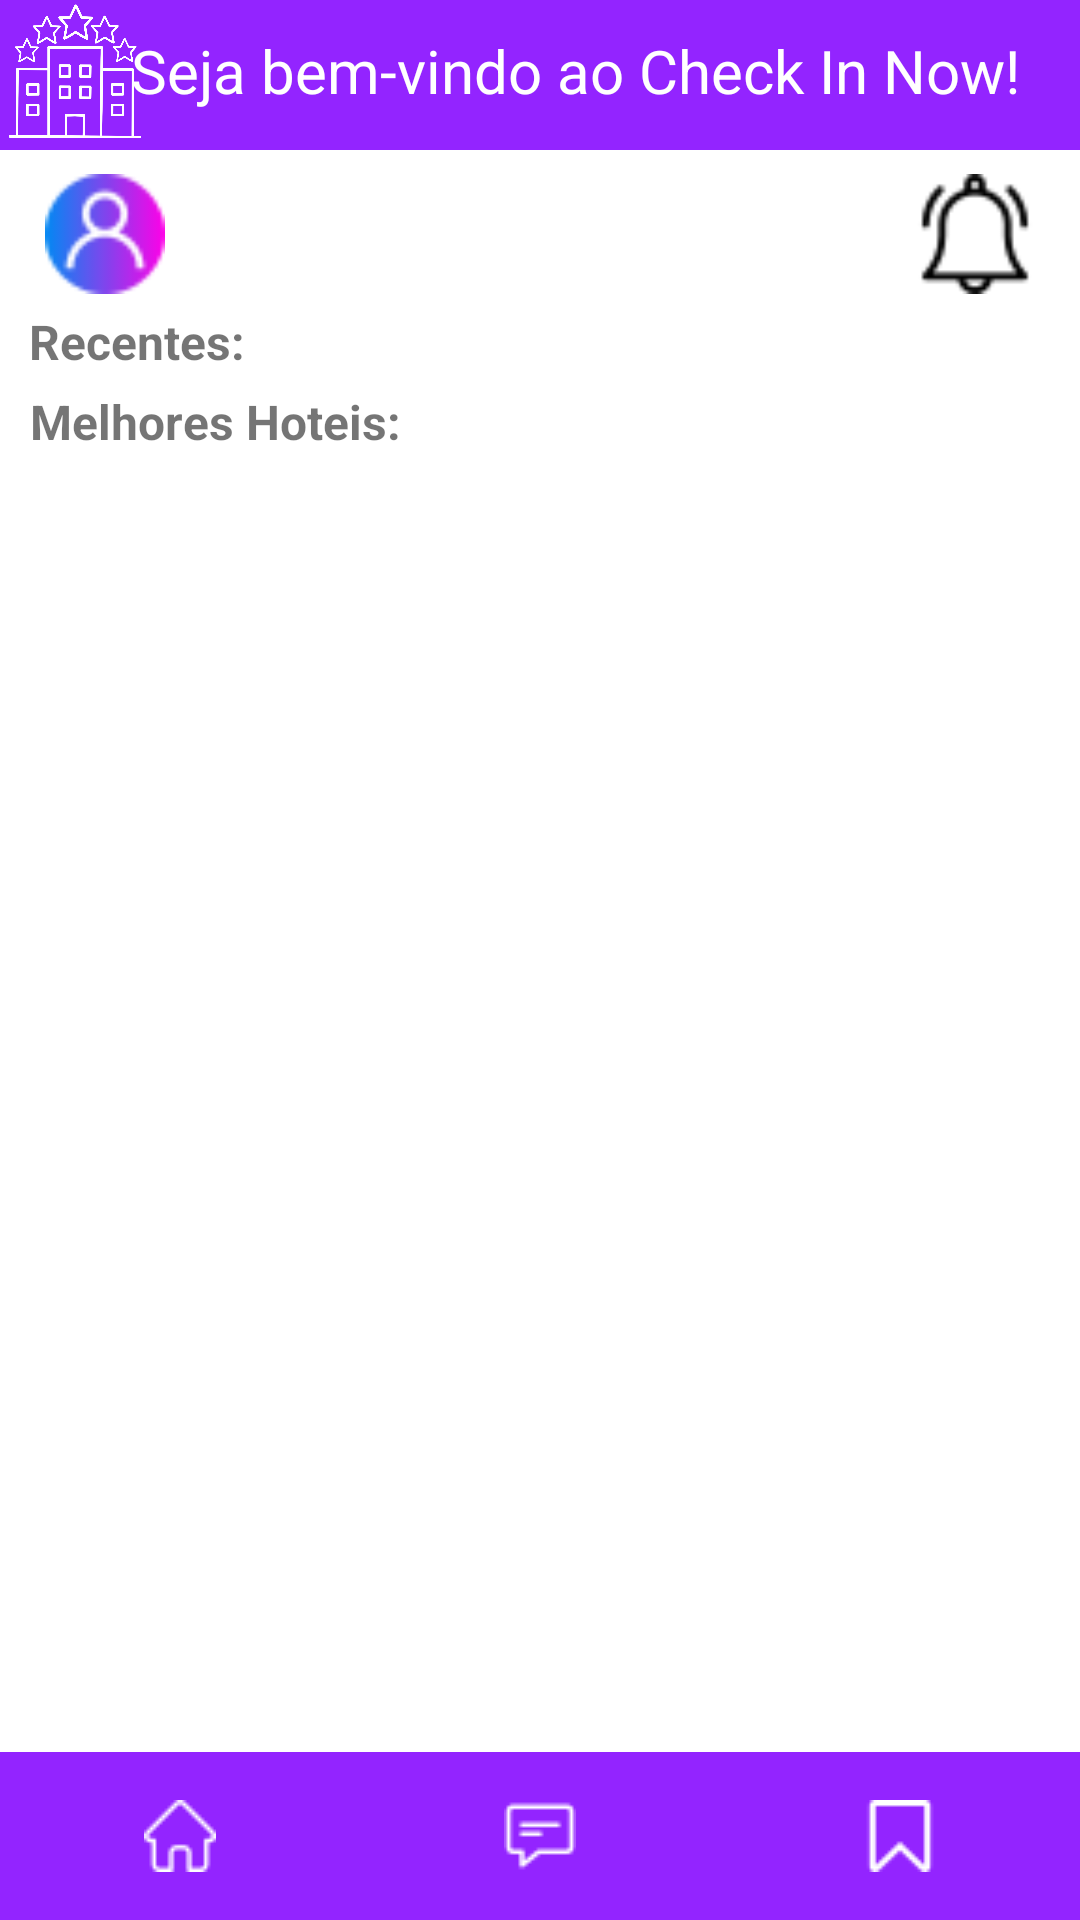

Where icons sit on this 1080w x 1920h app screen, as (x1, y1, x2, y2):
bookmark: (868, 1800, 932, 1872)
comment: (504, 1802, 576, 1869)
home: (144, 1800, 216, 1872)
notification: (921, 174, 1029, 294)
user: (45, 174, 165, 294)
